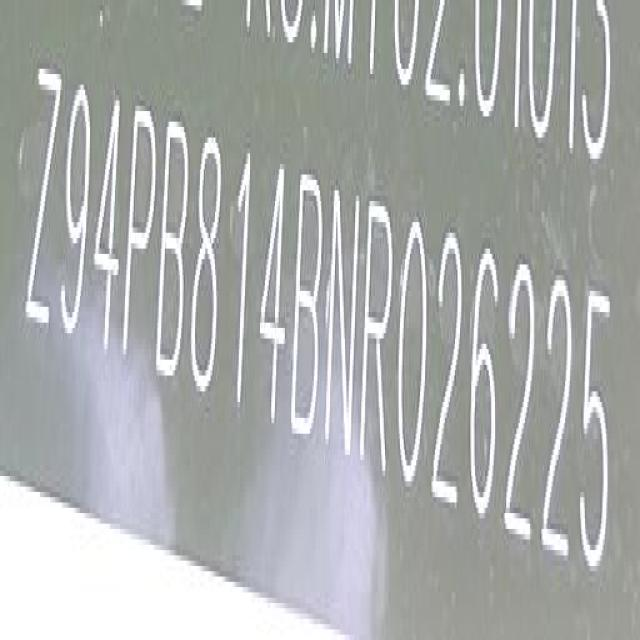0: (396, 216, 430, 504)
1: (234, 148, 252, 410)
2: (544, 273, 576, 566), (506, 258, 538, 548), (434, 227, 464, 508)
4: (258, 162, 290, 424), (94, 90, 124, 357)
5: (583, 280, 615, 580)
6: (468, 247, 500, 526)
8: (193, 133, 226, 398)
9: (64, 76, 92, 348)
B: (290, 169, 326, 446), (158, 108, 192, 379)
N: (325, 180, 360, 457)
P: (125, 102, 159, 371)
R: (364, 199, 393, 473)
Z: (26, 67, 62, 340)
